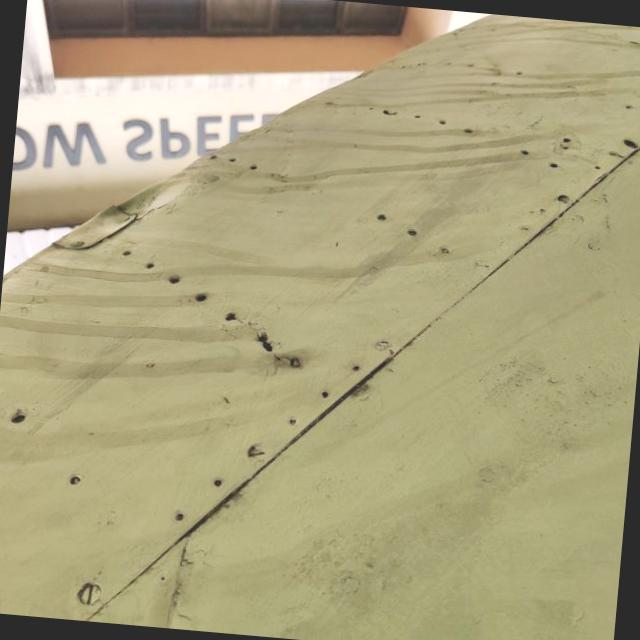crack: (241, 318, 287, 362)
